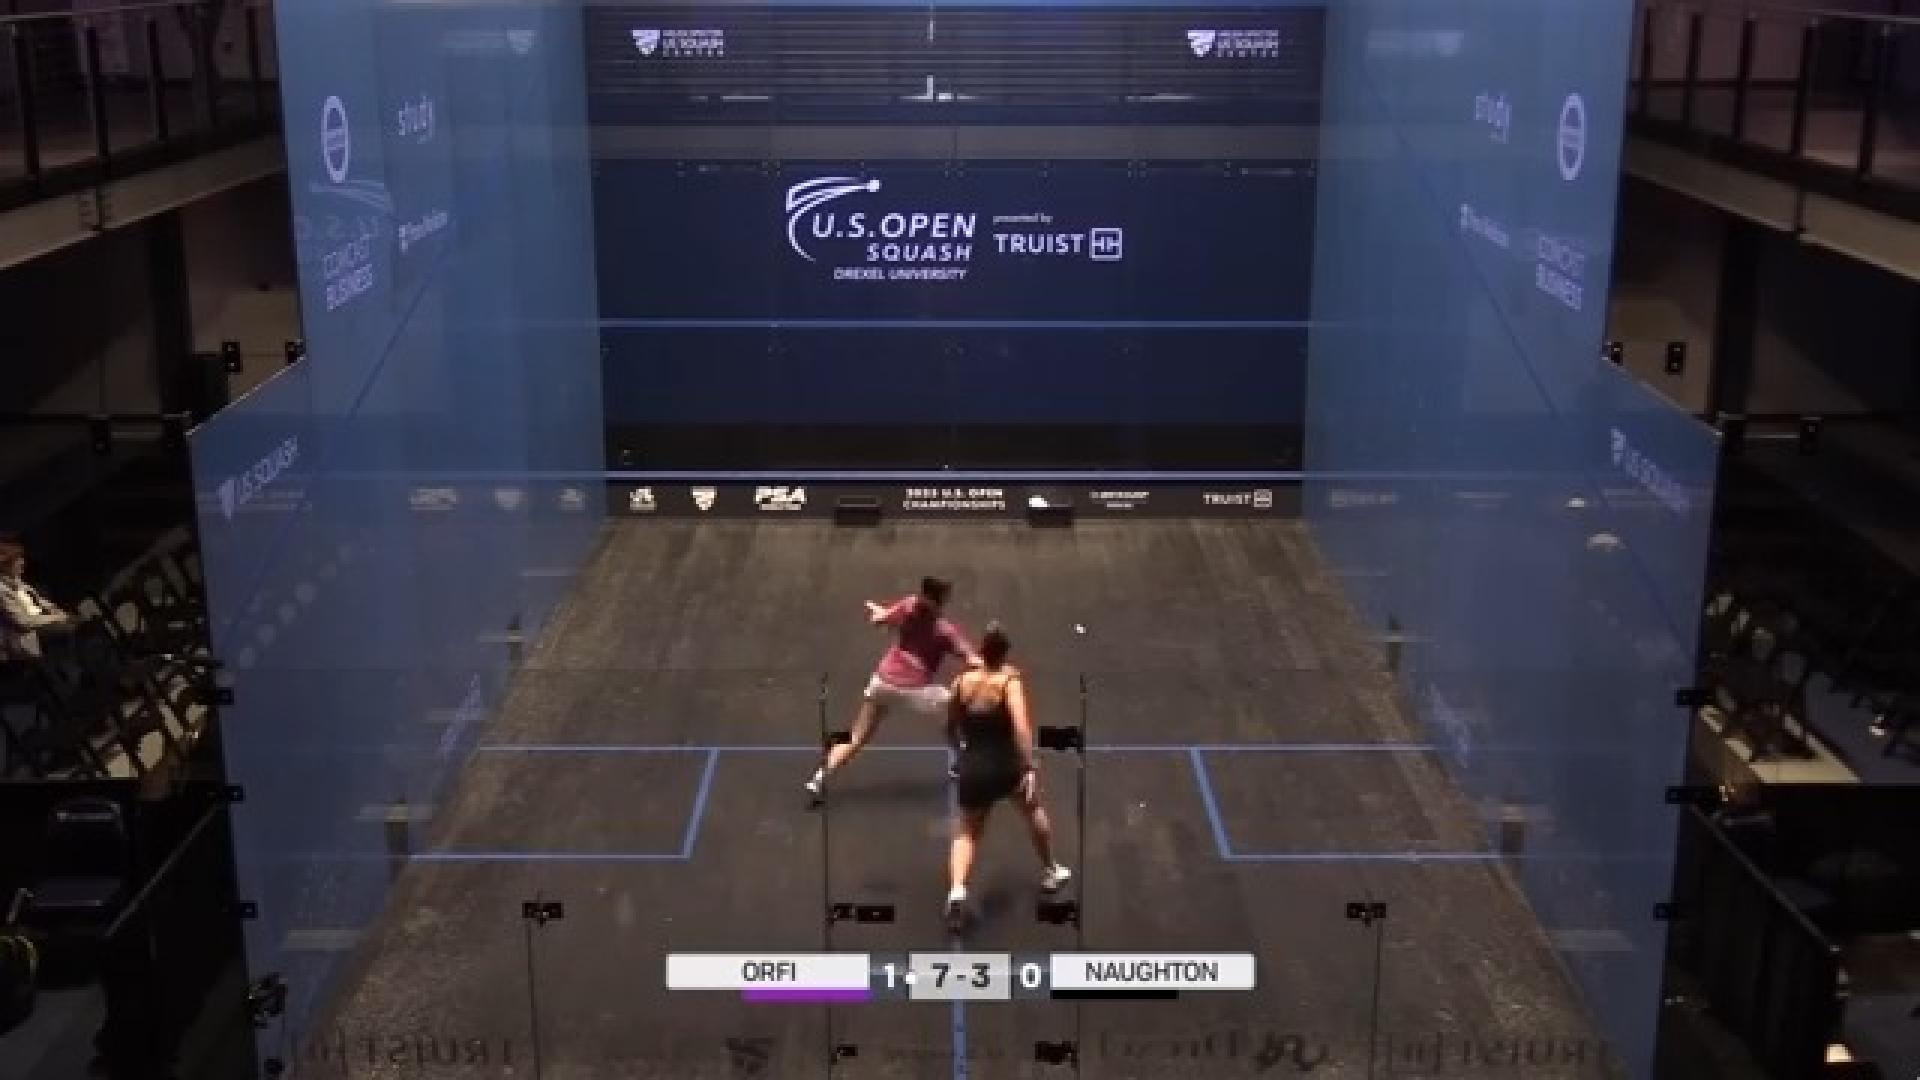Squash-Ball: (1058, 611, 1100, 649)
